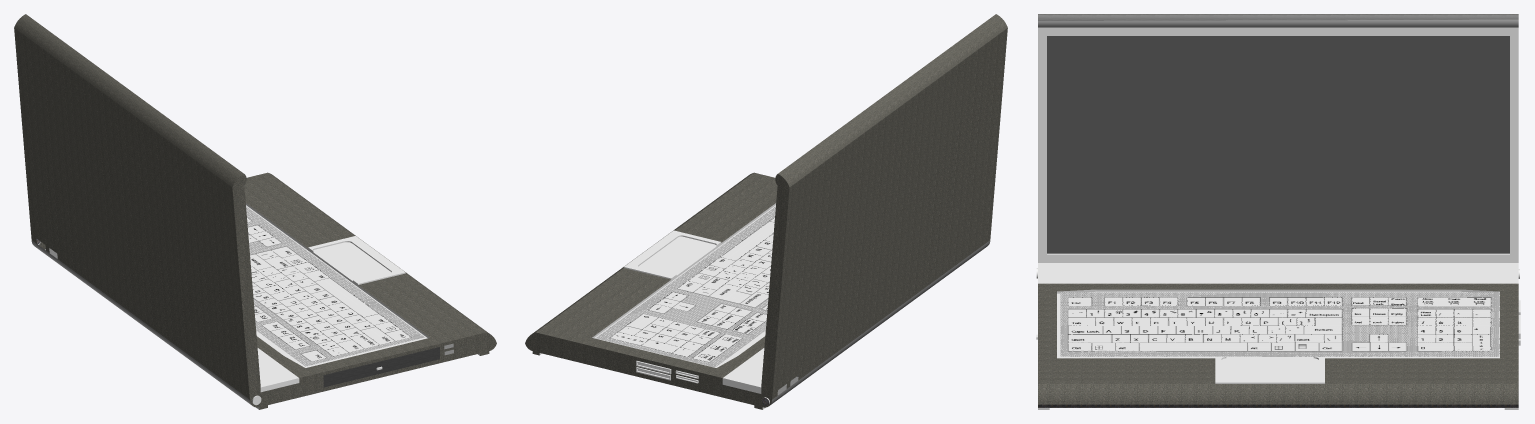
3 views of the same model, side by side, from view 1: azimuth 30°, elevation 25°; view 2: azimuth 150°, elevation 25°; view 3: azimuth 270°, elevation 25° (orthographic). The views are drawn at different scales.
Visible parts, largest first — view 1: SketchUp (×5), image_0; view 2: SketchUp (×4), image_0; view 3: SketchUp (×8), image_0.
Part boxes in pixels (bbox=[...]): SketchUp (×5): bbox=[14, 14, 496, 409]; image_0: bbox=[246, 206, 425, 366]; SketchUp (×4): bbox=[525, 14, 1007, 409]; image_0: bbox=[595, 206, 775, 367]; SketchUp (×8): bbox=[1038, 14, 1518, 407]; image_0: bbox=[1060, 292, 1499, 356].
Size of the model in its own units: 90.42 by 130 by 78.36.
